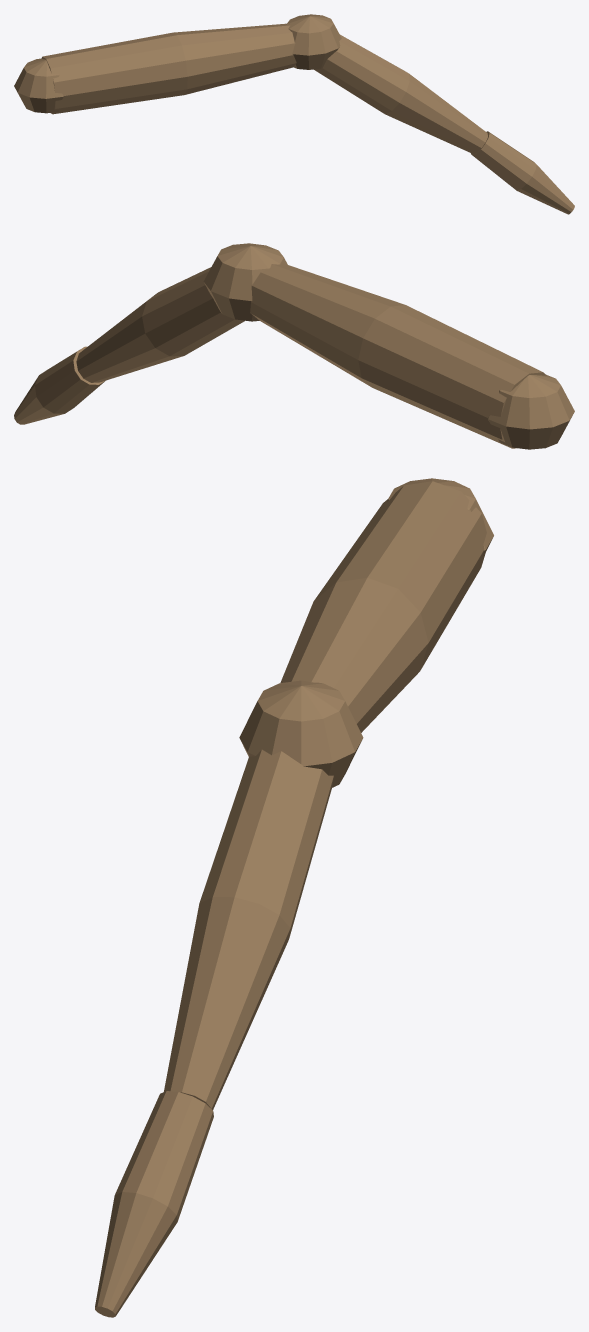
The model's file is scorpion_leg_r3_original_01.glb.
3 renders of one model, top to bottom at view 1: azimuth 30°, elevation 25°; view 2: azimuth 150°, elevation 25°; view 3: azimuth 270°, elevation 25°, orthographic. The views are drawn at different scales.
Visible parts, largest first — view 1: S0_RLeg3Segment1, S0_RLeg3Segment2, S0_RLeg3Segment3, S0_RLeg3Joint1, S0_RLeg3Joint0; view 2: S0_RLeg3Segment1, S0_RLeg3Segment2, S0_RLeg3Joint0, S0_RLeg3Joint1, S0_RLeg3Segment3; view 3: S0_RLeg3Segment2, S0_RLeg3Segment1, S0_RLeg3Segment3, S0_RLeg3Joint1.
Part boxes in pixels (left/top/right/bottom): S0_RLeg3Segment1: left=41, top=23, right=296, bottom=114; S0_RLeg3Segment2: left=313, top=34, right=487, bottom=154; S0_RLeg3Segment3: left=471, top=131, right=574, bottom=214; S0_RLeg3Joint1: left=286, top=14, right=341, bottom=69; S0_RLeg3Joint0: left=14, top=58, right=63, bottom=113; S0_RLeg3Segment1: left=250, top=263, right=546, bottom=448; S0_RLeg3Segment2: left=76, top=267, right=244, bottom=382; S0_RLeg3Joint0: left=487, top=375, right=574, bottom=449; S0_RLeg3Joint1: left=203, top=243, right=287, bottom=321; S0_RLeg3Segment3: left=14, top=346, right=105, bottom=424; S0_RLeg3Segment2: left=164, top=749, right=333, bottom=1109; S0_RLeg3Segment1: left=280, top=481, right=486, bottom=732; S0_RLeg3Segment3: left=95, top=1091, right=213, bottom=1317; S0_RLeg3Joint1: left=239, top=680, right=363, bottom=787.
Bounding box in the file's own units: 0.672 × 0.2884 × 0.2444.
